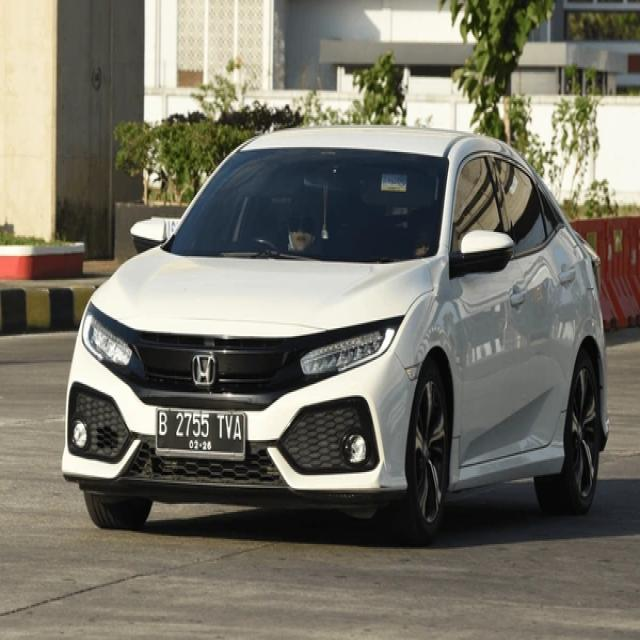honda: (192, 356, 216, 386)
